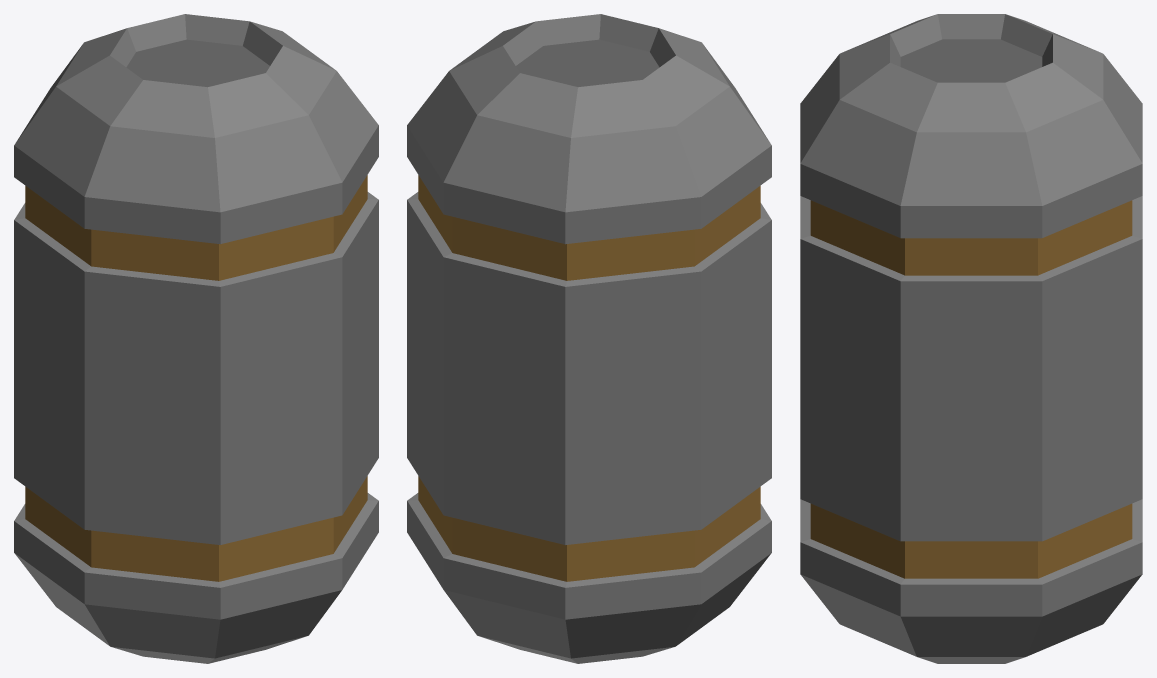
Rendered from vessel_short.glb.
The picture shows the model from 3 angles, left to right: view 1: azimuth 30°, elevation 25°; view 2: azimuth 150°, elevation 25°; view 3: azimuth 270°, elevation 25°; orthographic projection.
Visible parts, largest first — view 1: vessel_short; view 2: vessel_short; view 3: vessel_short.
Boxes of the visible parts, x1,y1,x2,y2 form: vessel_short: [14, 14, 378, 663]; vessel_short: [407, 14, 771, 663]; vessel_short: [800, 14, 1142, 663].
Size of the model in its own units: 0.534 by 1 by 0.534.
